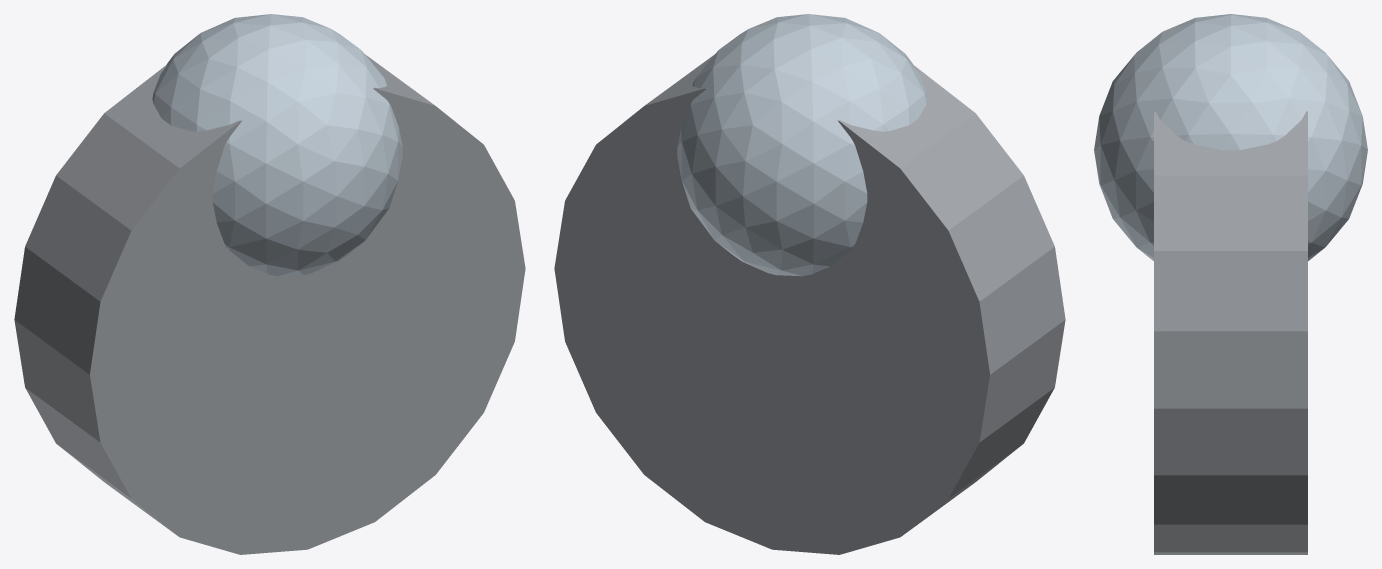
Rendered from orb_podium.glb.
3 renders of one model, left to right at view 1: azimuth 30°, elevation 25°; view 2: azimuth 150°, elevation 25°; view 3: azimuth 270°, elevation 25°, orthographic. The views are drawn at different scales.
Visible parts, largest first — view 1: world; view 2: world; view 3: world.
Boxes of the visible parts, bbox=[...] form: world: bbox=[14, 14, 525, 554]; world: bbox=[554, 14, 1065, 554]; world: bbox=[1094, 14, 1367, 554].
Bounding box in the file's own units: 1.8 × 1.96 × 0.96.
